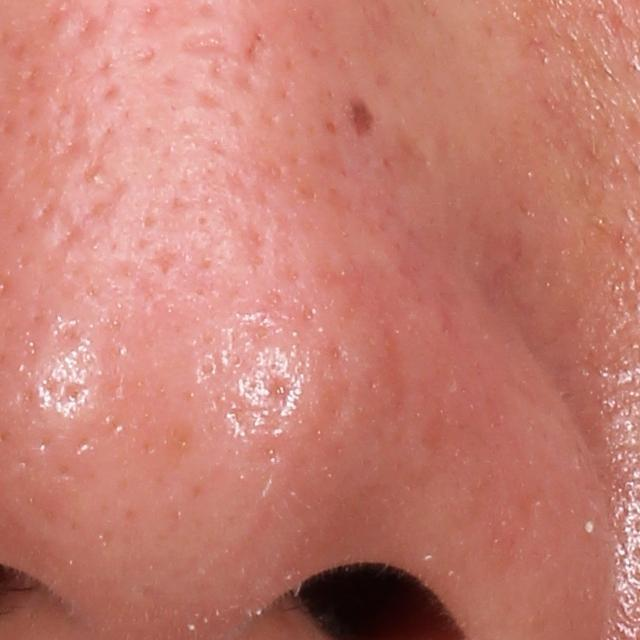atrophic_scar: (43, 83, 90, 164), (35, 188, 89, 254), (79, 120, 118, 185), (180, 28, 240, 59)
nevus: (350, 91, 378, 141)
